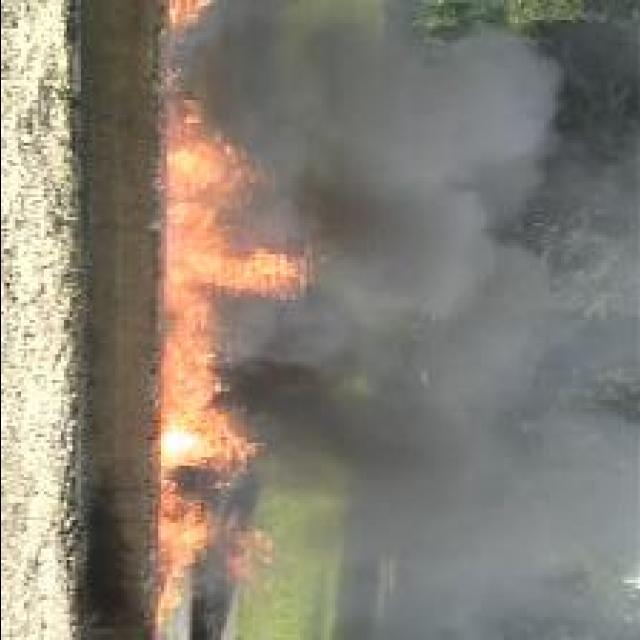Fire: (158, 99, 318, 472), (154, 480, 274, 640), (167, 1, 213, 28)
